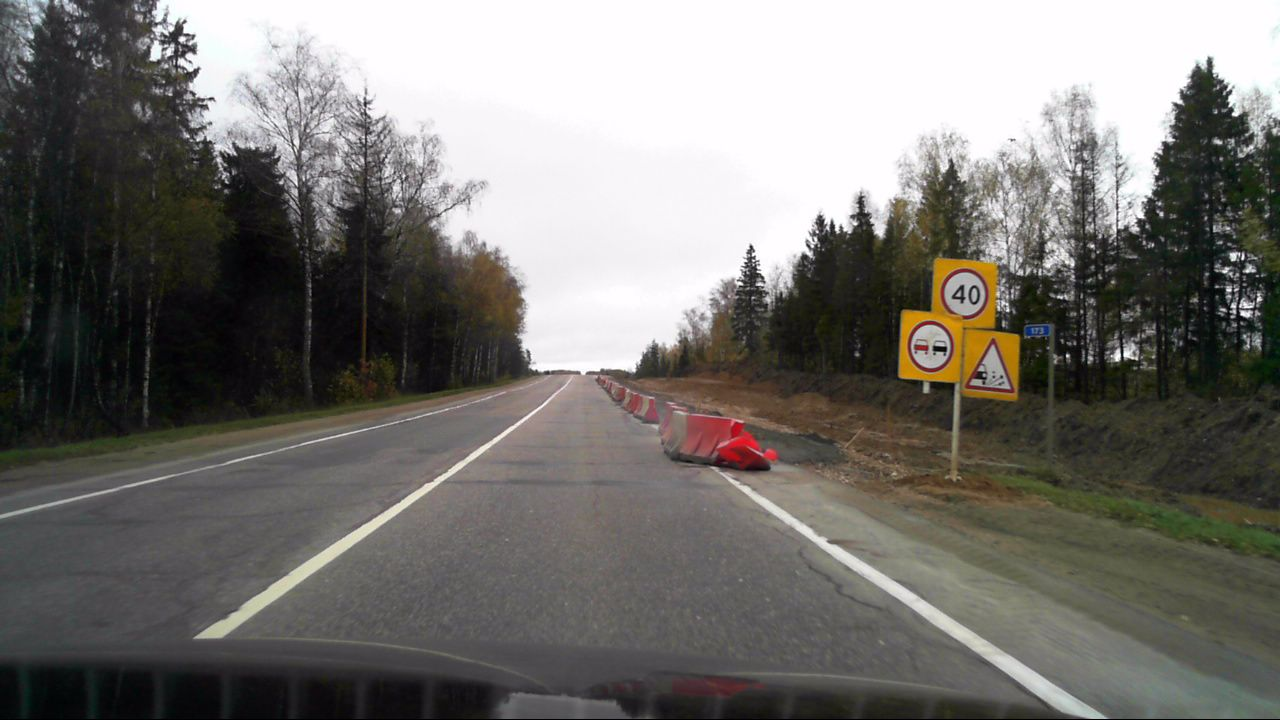speed_warning_40: (931, 260, 994, 328)
